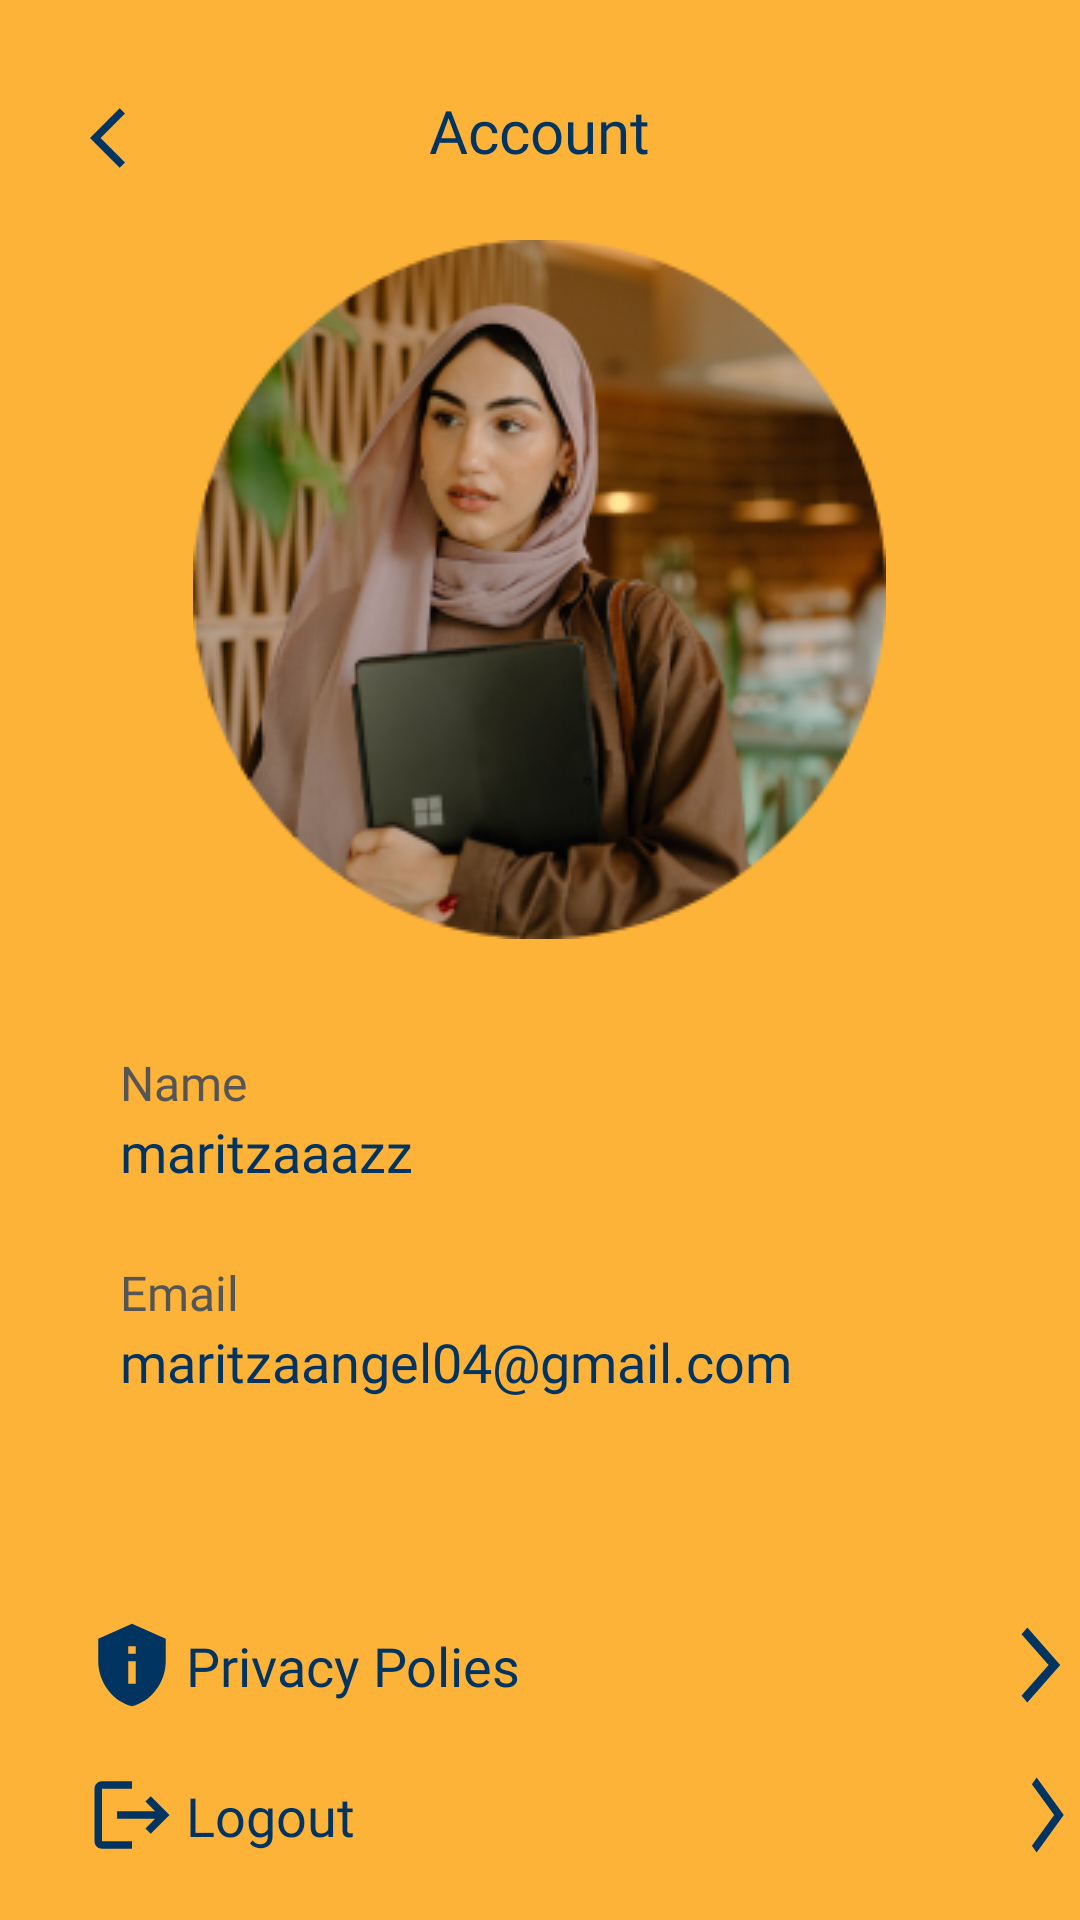

Locate icon controls on the screen. Image size 1080w x 1920h, boxes as box=[x1, y1, x2, y2].
arrow back: box=[90, 108, 125, 168]
arrow forward: box=[1021, 1627, 1060, 1703], box=[1032, 1777, 1064, 1853]
privacy tip: box=[98, 1624, 166, 1707]
